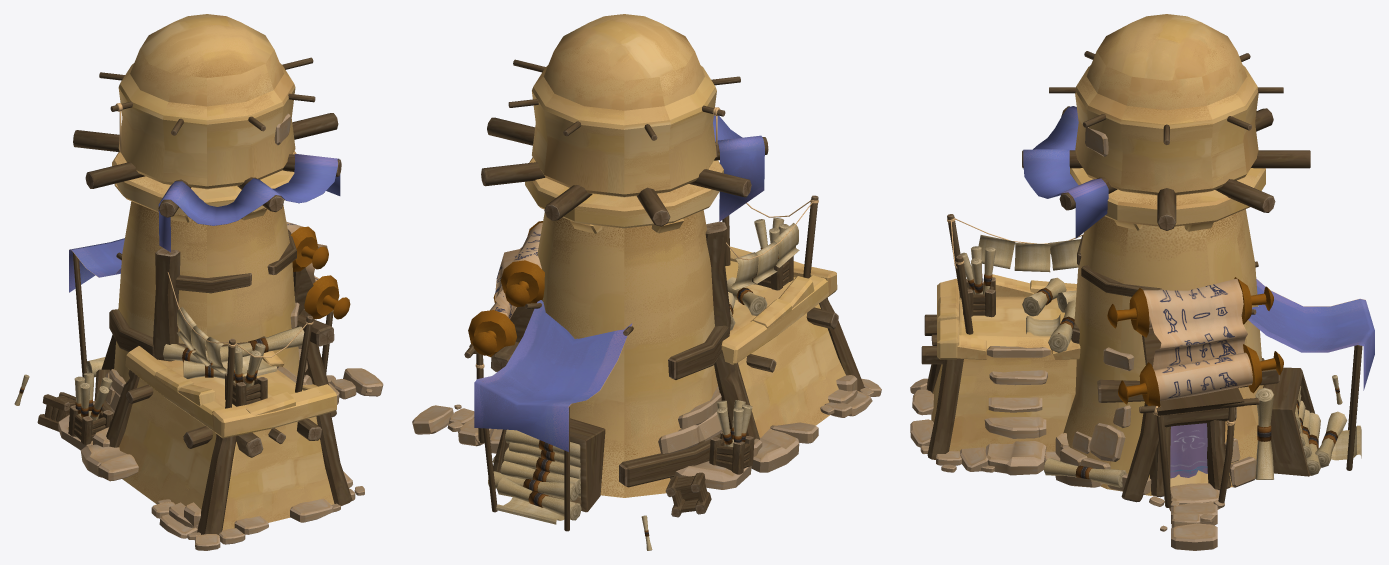
Rendered from 1DAE05_Foets_Nico_GameArtRetake_SketchfabModel.fbx.
3 renders of one model, left to right at view 1: azimuth 30°, elevation 25°; view 2: azimuth 150°, elevation 25°; view 3: azimuth 270°, elevation 25°, orthographic. The views are drawn at different scales.
Visible parts, largest first — view 1: Cylinder037; view 2: Cylinder037; view 3: Cylinder037.
Part boxes in pixels (x1,y1,x2,y2): Cylinder037: (14,14,383,550); Cylinder037: (412,14,881,550); Cylinder037: (910,14,1374,550).
Bounding box in the file's own units: 378 × 463 × 446.
